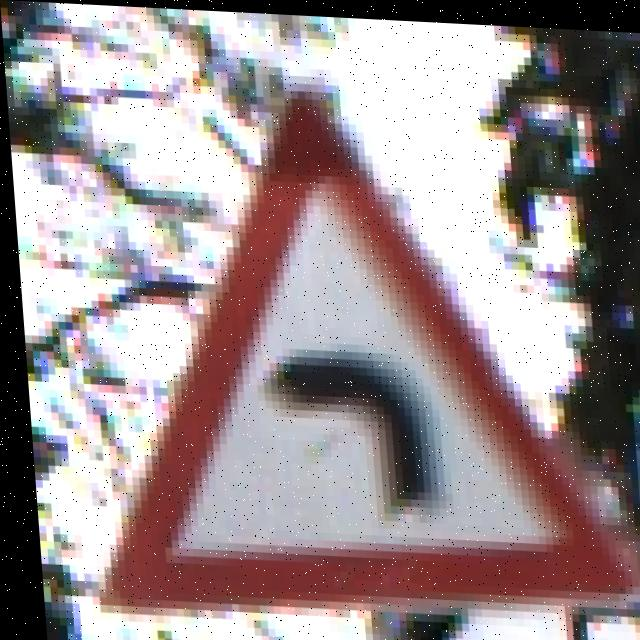left_turn: (135, 125, 602, 635)
